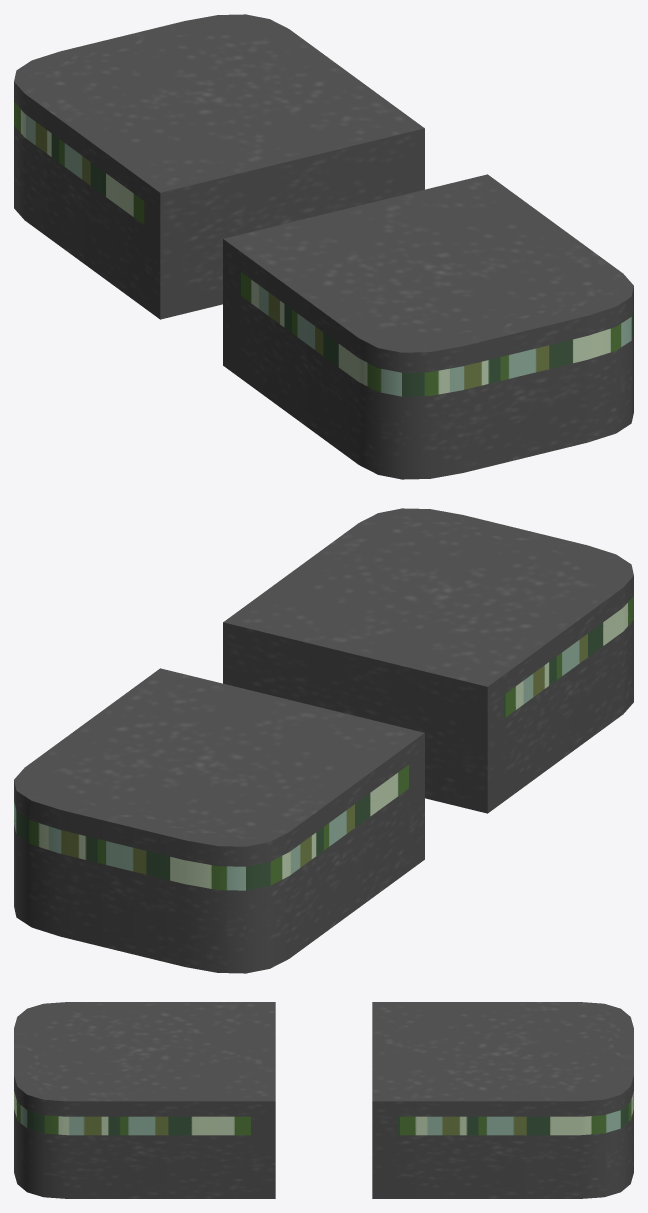
File: Bench.fbx
3 renders of one model, top to bottom at view 1: azimuth 30°, elevation 25°; view 2: azimuth 150°, elevation 25°; view 3: azimuth 270°, elevation 25°, orthographic. The views are drawn at different scales.
Parts seen in each view (by area): view 1: First Module001; view 2: First Module001; view 3: First Module001.
Part boxes in pixels (box(x1,y1,x2,y2)): First Module001: box(14, 14, 633, 479); First Module001: box(14, 508, 633, 973); First Module001: box(14, 1002, 633, 1198).
Bounding box in the file's own units: 49.05 × 22.46 × 129.
